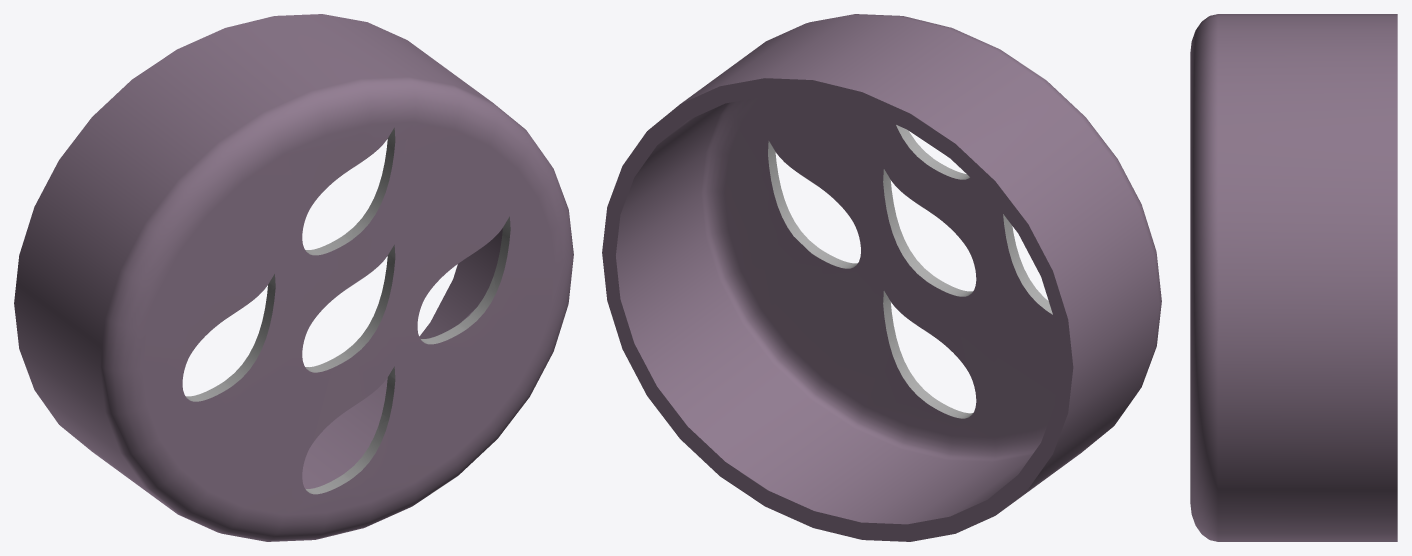
Rendered from pig_leave.fbx.
3 renders of one model, left to right at view 1: azimuth 30°, elevation 25°; view 2: azimuth 150°, elevation 25°; view 3: azimuth 270°, elevation 25°, orthographic. The views are drawn at different scales.
Parts seen in each view (by area): view 1: polySurface45; view 2: polySurface45; view 3: polySurface45.
Part boxes in pixels (x1,y1,x2,y2): polySurface45: [14, 14, 573, 541]; polySurface45: [602, 14, 1161, 541]; polySurface45: [1190, 14, 1397, 541].
Bounding box in the file's own units: 8.15 × 7.4 × 2.97.
